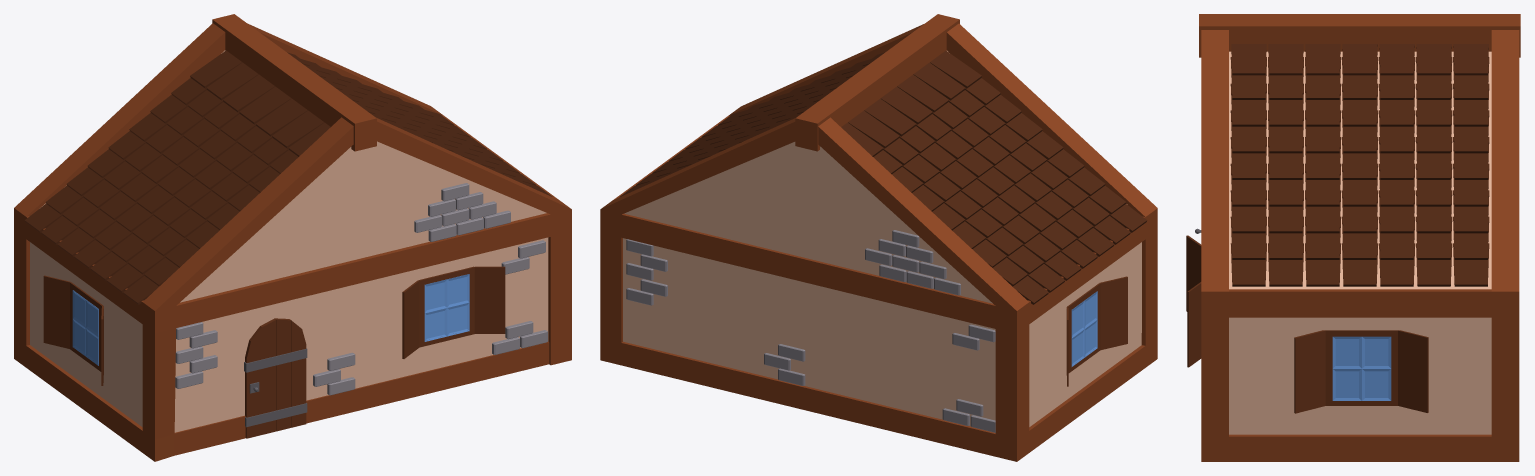
Rendered from house2.fbx.
The picture shows the model from 3 angles, left to right: view 1: azimuth 30°, elevation 25°; view 2: azimuth 150°, elevation 25°; view 3: azimuth 270°, elevation 25°; orthographic projection. The views are drawn at different scales.
Visible parts, largest first — view 1: Cube.001, Cube, Cube.007, Cube.010, Circle.003, Cube.009, Cube.004, Cube.008, Cube.003, Cube.002; view 2: Cube, Cube.001, Cube.007, Cube.010, Cube.004, Cube.003; view 3: Cube.007, Cube.001, Cube, Cube.006, Cube.005, Cube.009.
Boxes of the visible parts, x1,y1,x2,y2 form: Cube.001: (14, 14, 571, 461); Cube: (30, 50, 548, 432); Cube.007: (24, 50, 552, 304); Cube.010: (175, 183, 547, 395); Circle.003: (245, 318, 306, 438); Cube.009: (402, 266, 505, 358); Cube.004: (43, 275, 103, 385); Cube.008: (424, 274, 469, 341); Cube.003: (72, 290, 98, 365); Cube.002: (244, 348, 307, 427); Cube: (623, 51, 1141, 426); Cube.001: (600, 14, 1157, 461); Cube.007: (620, 50, 1147, 304); Cube.010: (626, 230, 995, 432); Cube.004: (1066, 276, 1127, 386); Cube.003: (1071, 291, 1097, 366); Cube.007: (1230, 44, 1489, 286); Cube.001: (1199, 14, 1520, 461); Cube: (1229, 51, 1491, 434); Cube.006: (1294, 330, 1428, 413); Cube.005: (1332, 336, 1391, 400); Cube.009: (1186, 235, 1201, 367).
Bounding box in the file's own units: 1487 × 937 × 867.
